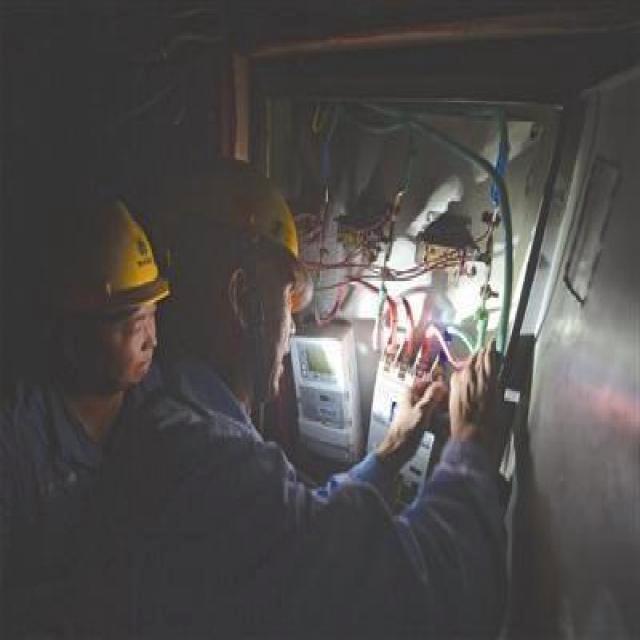face_nomask: (112, 302, 166, 384)
hand_noglove: (446, 335, 517, 451), (379, 375, 451, 459)
head_helmet: (149, 151, 308, 273), (31, 189, 175, 316)
